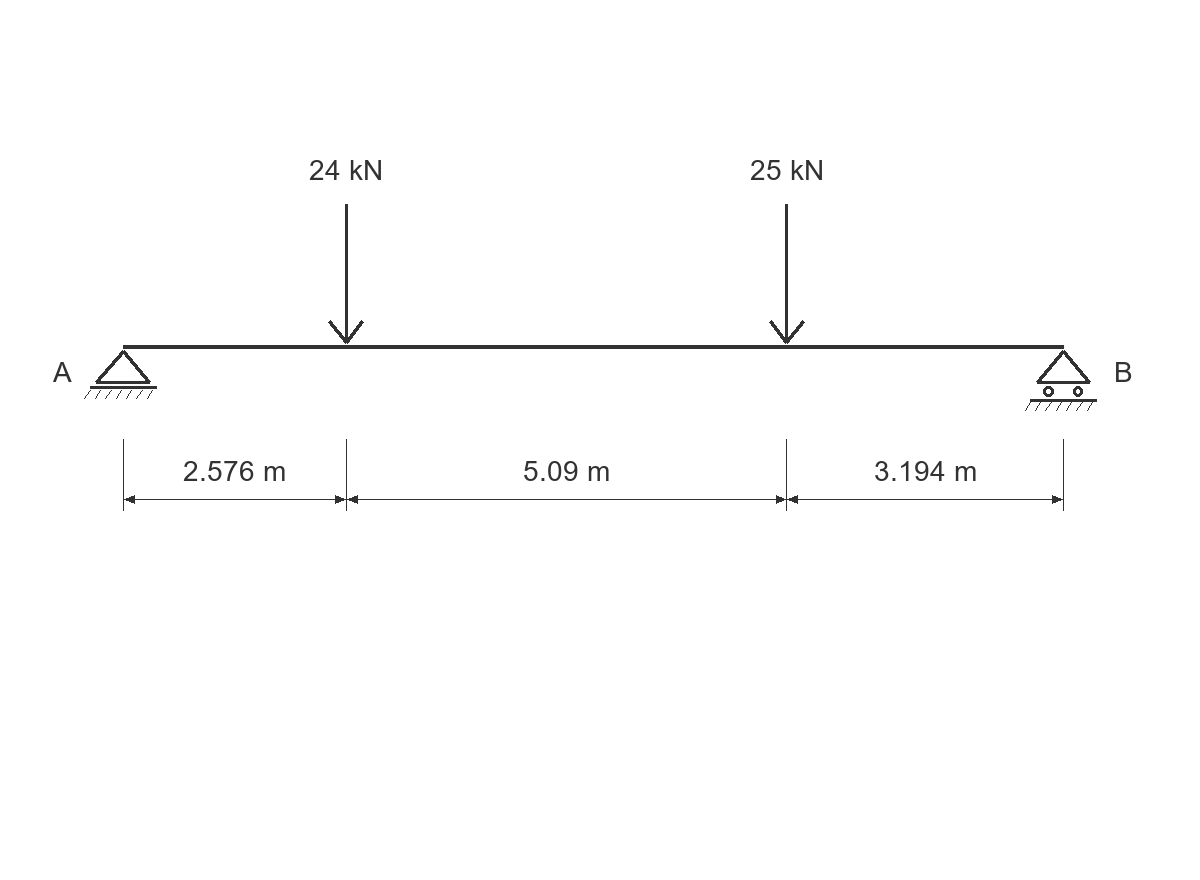pin_support: (84, 350, 157, 399)
point_load: (328, 204, 364, 344), (769, 204, 805, 344)
roller_support: (1025, 350, 1097, 411)
